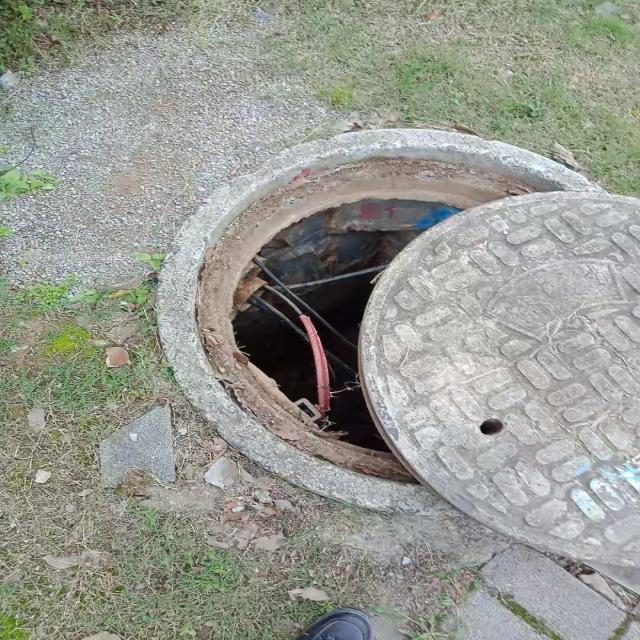Faulty: (150, 125, 640, 568)
